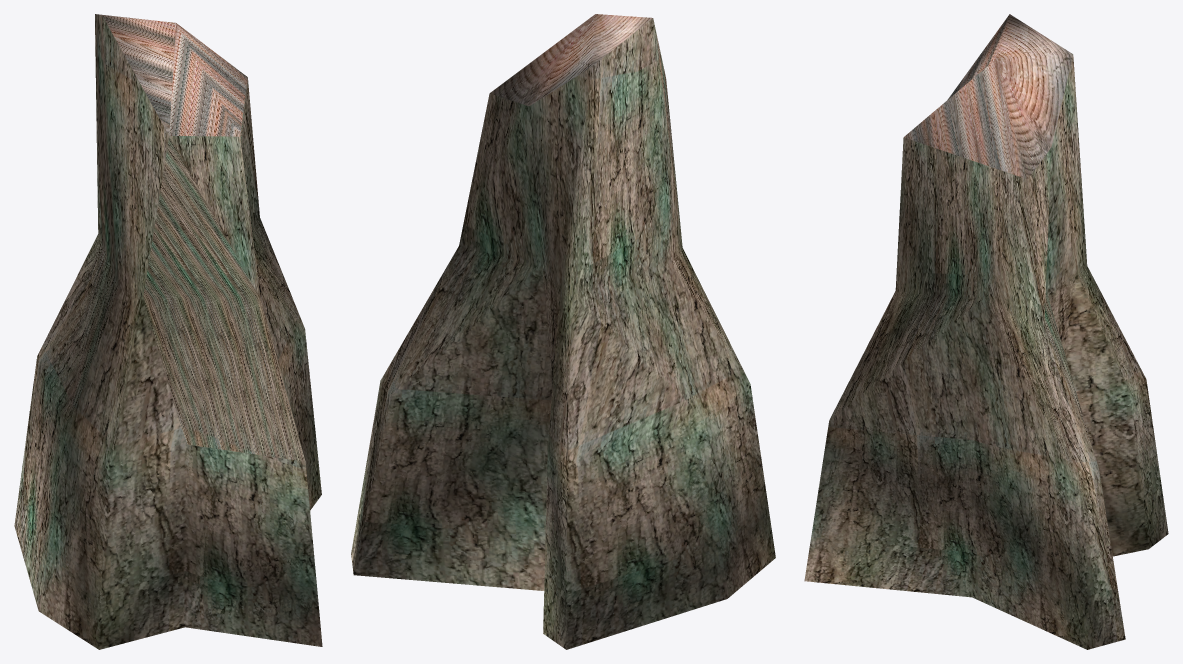
Rendered from decd_dogwoodstump_l1.fbx.
The picture shows the model from 3 angles, left to right: view 1: azimuth 30°, elevation 25°; view 2: azimuth 150°, elevation 25°; view 3: azimuth 270°, elevation 25°; orthographic projection. The views are drawn at different scales.
Visible parts, largest first — view 1: mesh_node; view 2: mesh_node; view 3: mesh_node.
Boxes of the visible parts, x1,y1,x2,y2 form: mesh_node: (14,14,322,649); mesh_node: (351,14,775,649); mesh_node: (804,14,1168,649).
Size of the model in its own units: 0.4417 by 0.7308 by 0.4638.
